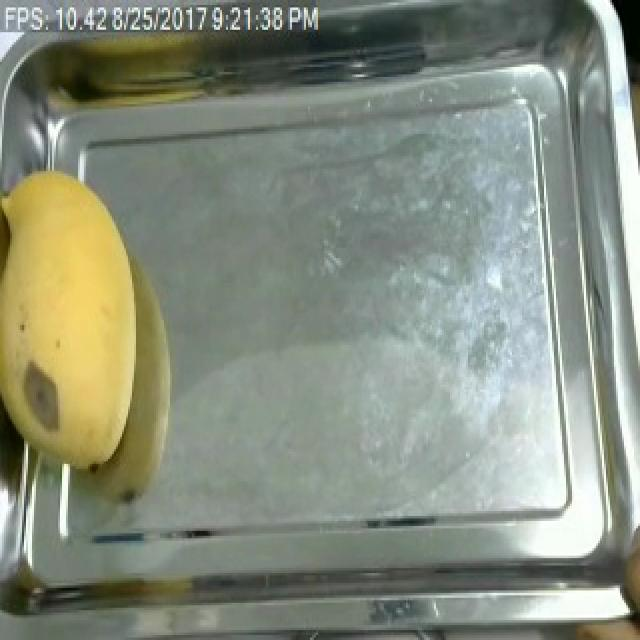fruit: (0, 154, 158, 479)
